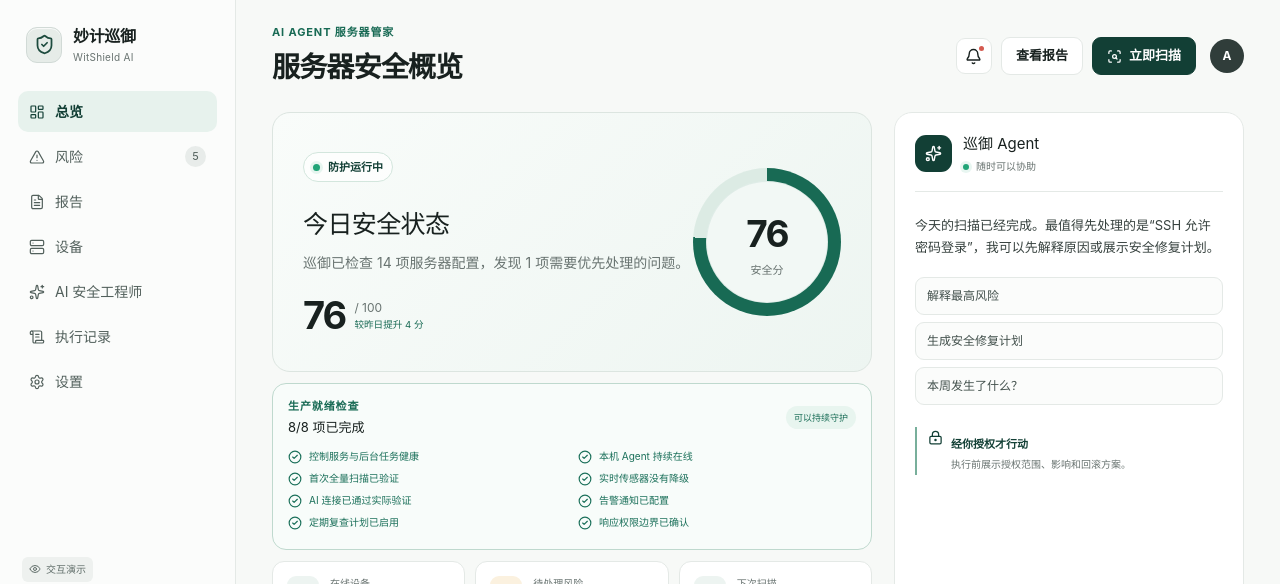
Test: WitShieldApp › creates a one-time enrollment command from the devices page
Expected: the heading "服务器安全概览" is shown, [272,46,462,88]
Click the button "设备". click: {"x": 118, "y": 246}
box: [18,226,217,267]
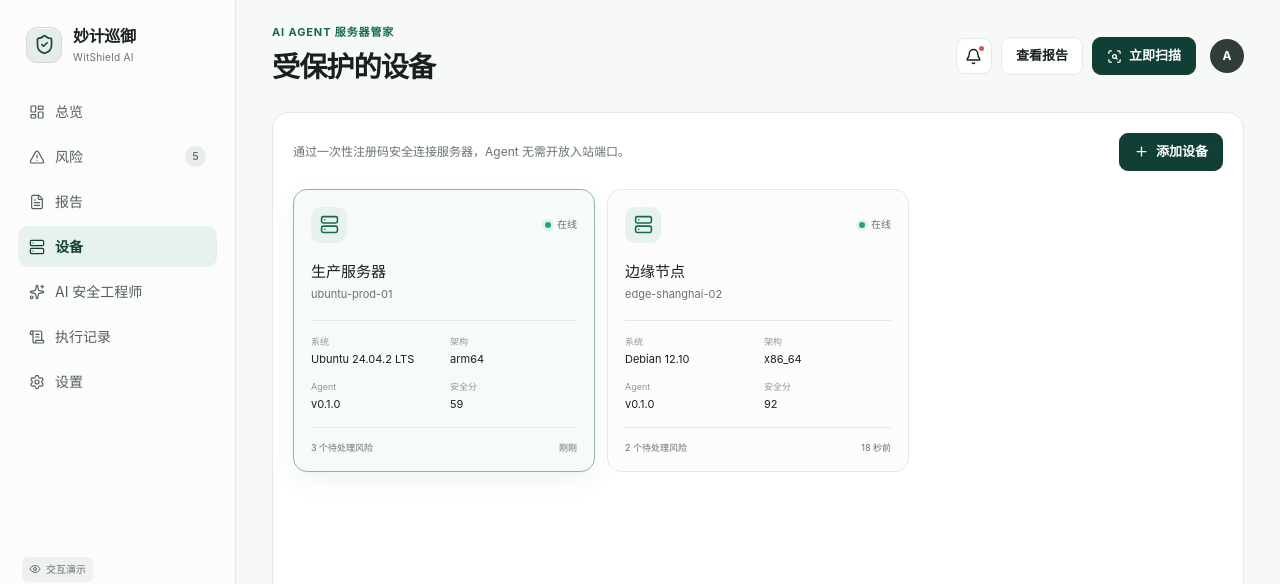
Now the heading "受保护的设备" is shown, box [272,46,435,88]
Click the button "添加设备". click: {"x": 1171, "y": 152}
box: [1119,133,1223,170]
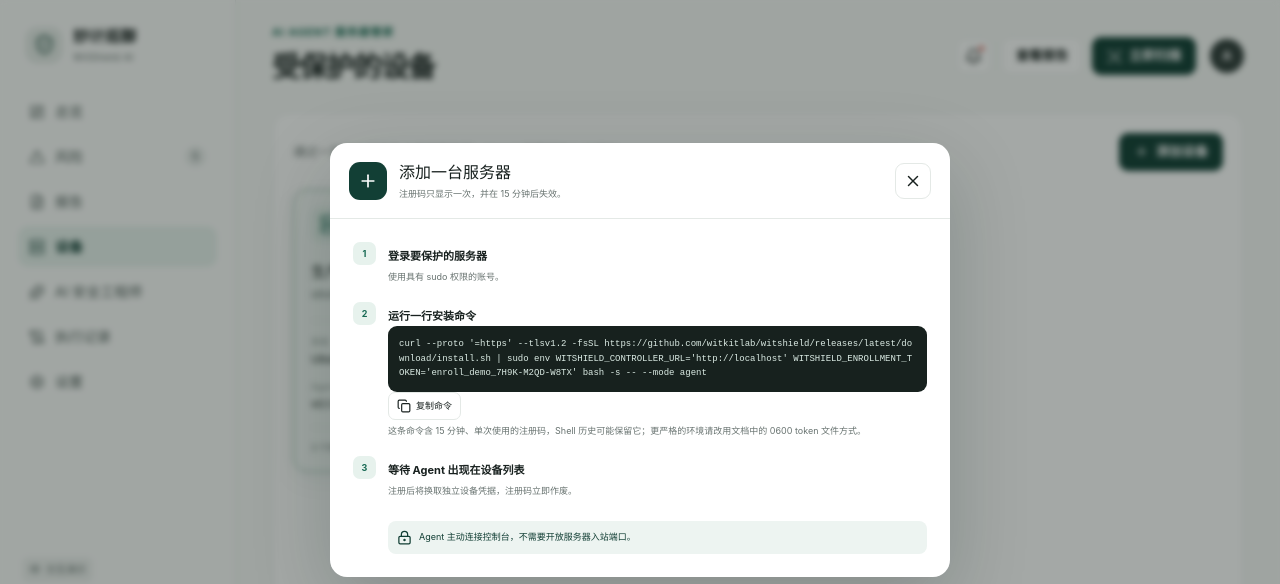
Now the dialog "添加一台服务器" is shown, box [330,143,950,577]
Now the text "curl --proto" shows "--proto '=https'", box [399,339,912,378]
Now the text "curl --proto" shows "WITSHIELD_CONTROLLER_URL=", box [399,339,912,378]
